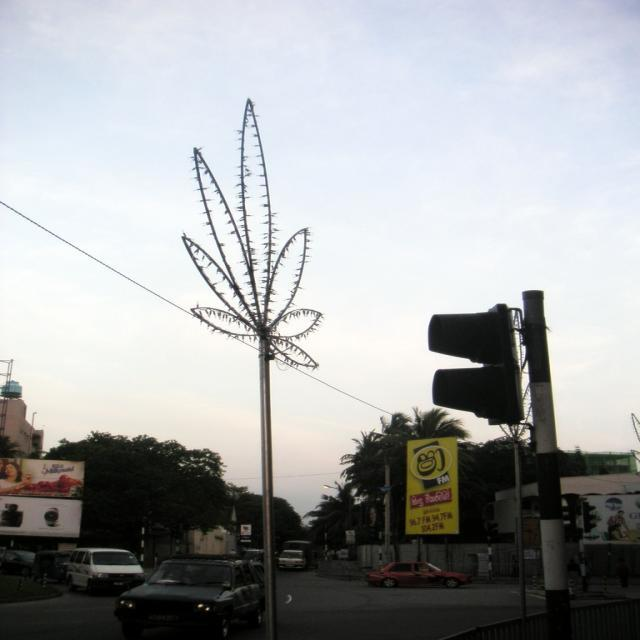off traffic light: (430, 301, 526, 425)
